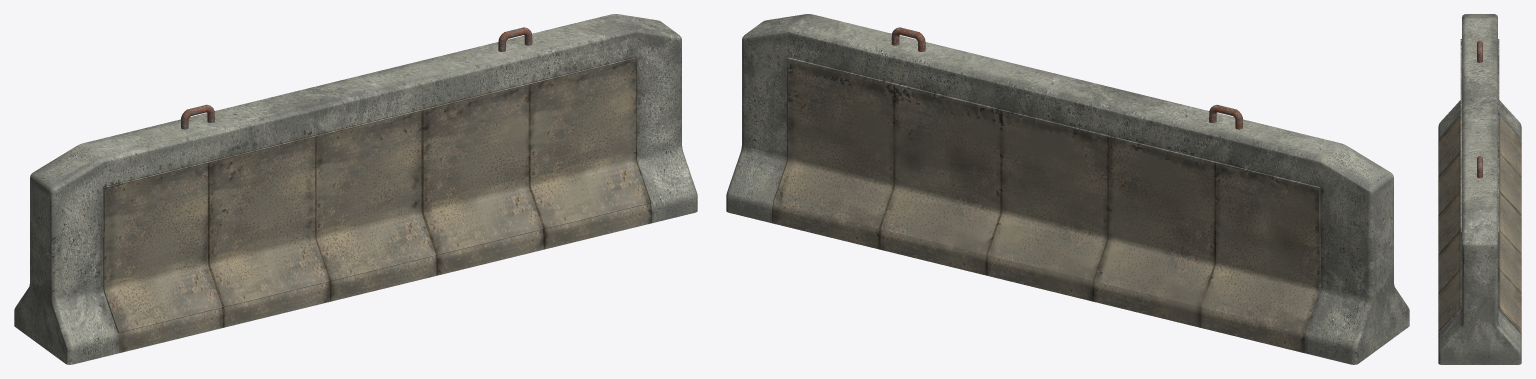
Rendered from concrete_armored_barrier.glb.
3 renders of one model, left to right at view 1: azimuth 30°, elevation 25°; view 2: azimuth 150°, elevation 25°; view 3: azimuth 270°, elevation 25°, orthographic. The views are drawn at different scales.
Parts seen in each view (by area): view 1: BarrierArmor; view 2: BarrierArmor; view 3: BarrierArmor.
Part boxes in pixels (x1=…): BarrierArmor: x1=14, y1=14, x2=697, y2=364; BarrierArmor: x1=726, y1=14, x2=1409, y2=364; BarrierArmor: x1=1438, y1=14, x2=1521, y2=364.
Size of the model in its own units: 3.75 by 1.13 by 0.5737.
Materials: 1 (1 with a texture image).
